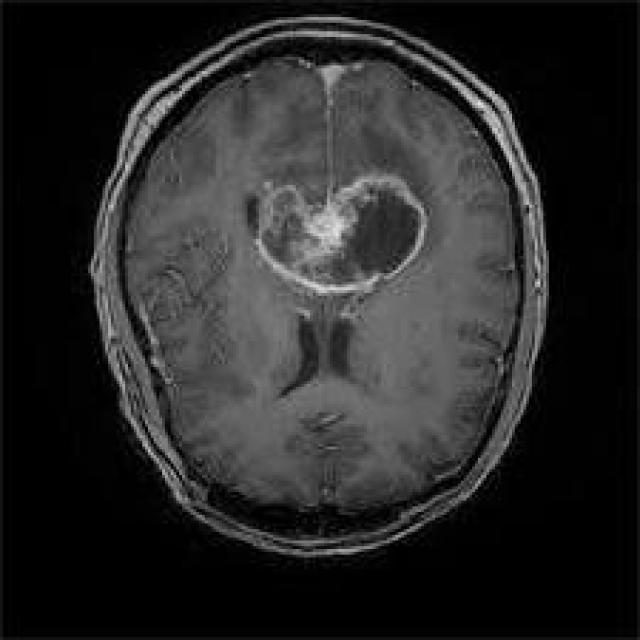brain tumor: (253, 176, 427, 293)
